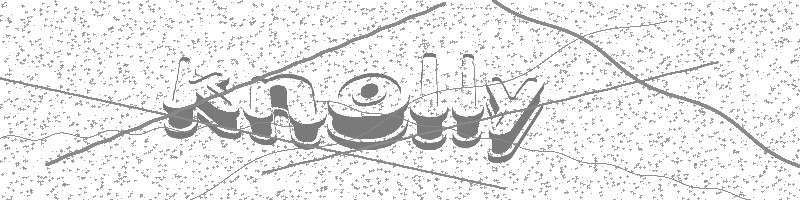k: (163, 54, 245, 142)
l: (407, 51, 448, 153), (450, 49, 485, 147)
n: (243, 69, 328, 151)
o: (329, 68, 408, 148)
y: (483, 76, 544, 164)
